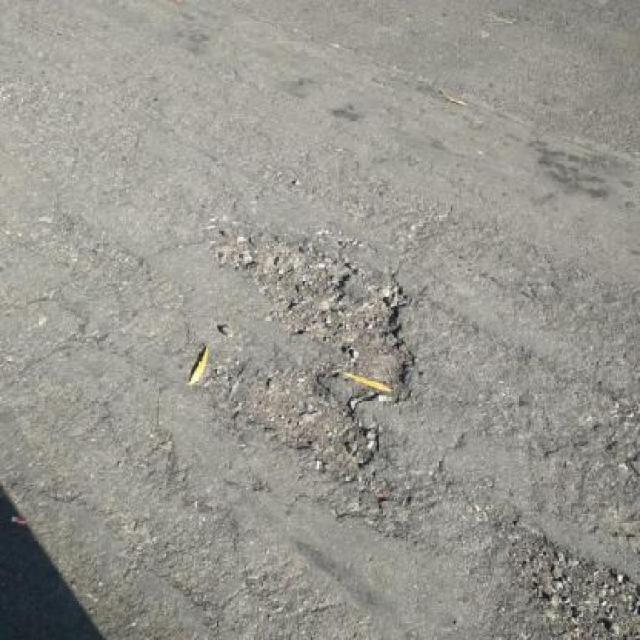pothole: (192, 232, 423, 474), (502, 527, 640, 637)
